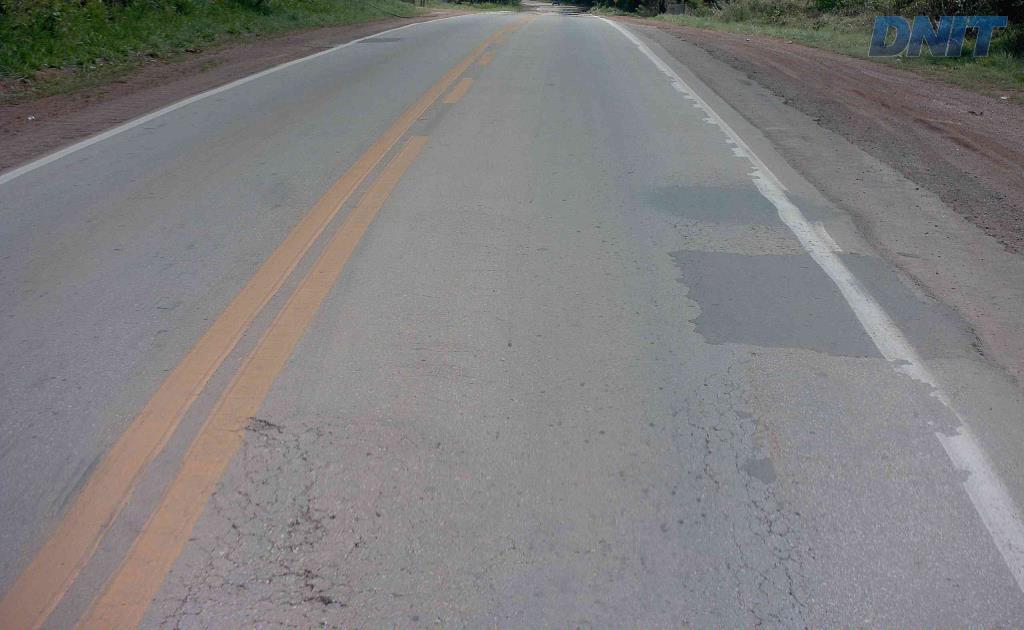crack: (258, 538, 354, 613), (276, 506, 329, 553), (734, 451, 777, 496), (245, 416, 286, 431)
